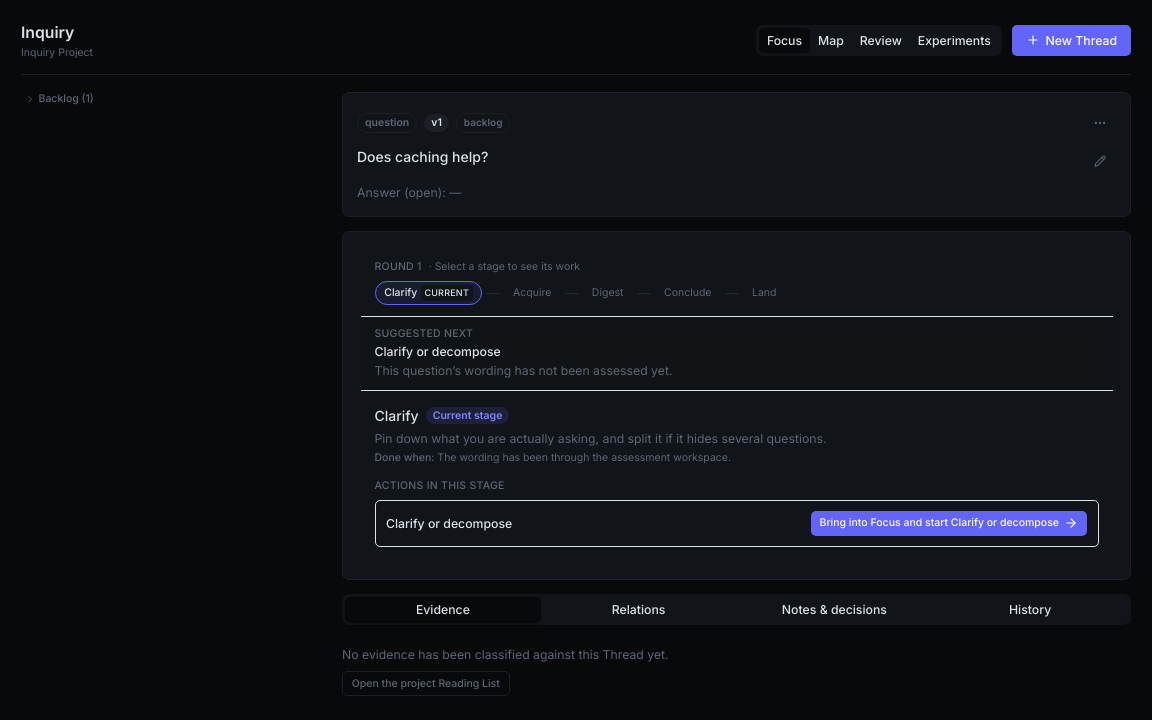
Scenario: InquiryAreaPage › explains what a stage is for when its chip is opened, instead of a one-time tour
Expected: the text "Does caching help?" is shown, [357,148,488,164]
What coordinates should you click on to do the following:
click the tab "Digest"
I would click on:
 (608, 293)
Its box is [582,281,633,304].
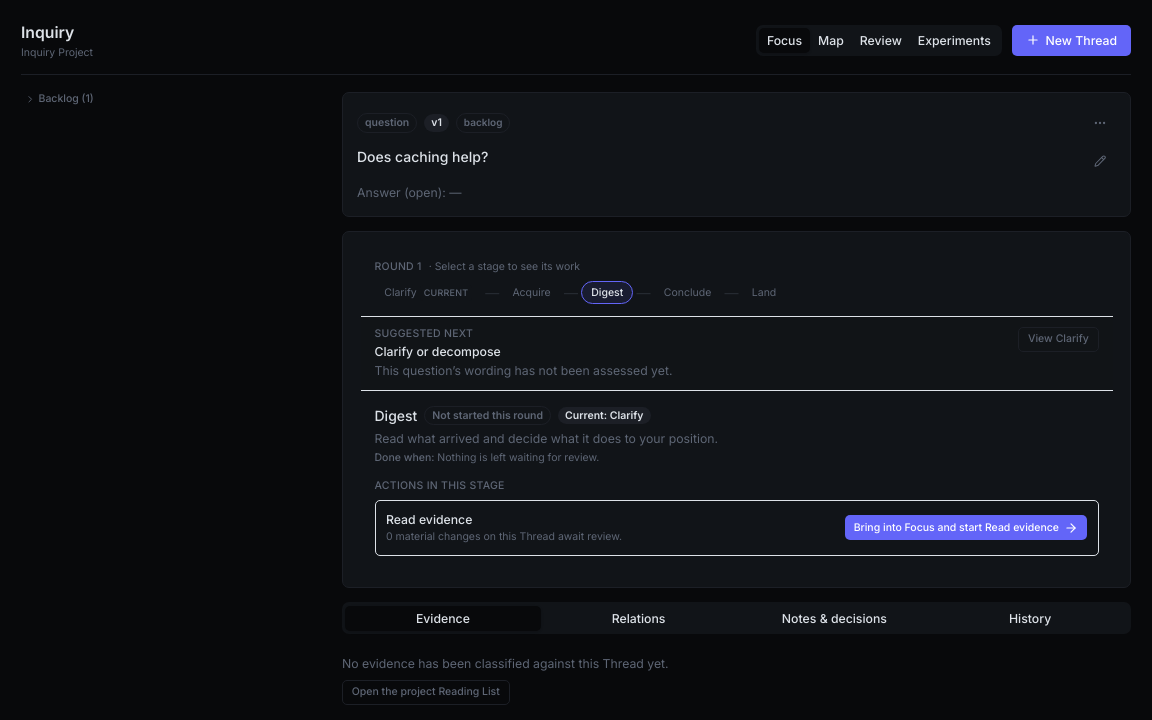
Now the text "Read what arrived and decide what it does to your position." is shown, box [374,430,718,446]
Now the text "Done when: Nothing is left waiting for review." is shown, box [374,450,599,464]
